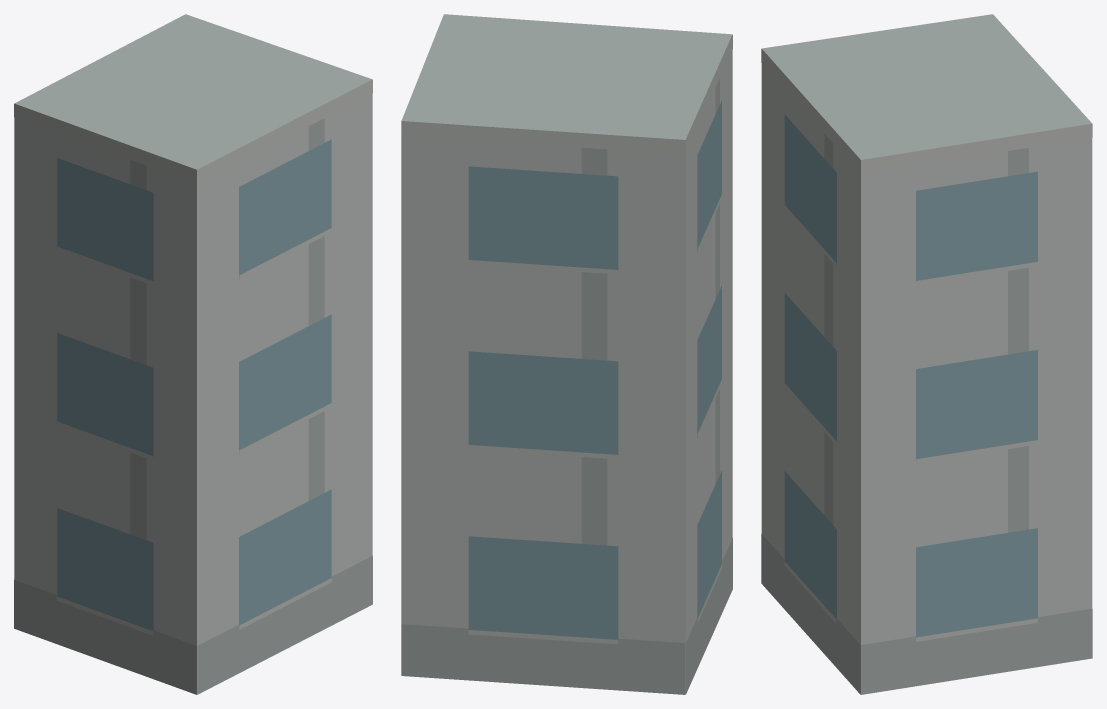
The model's file is survey-upis-32541753.glb.
The picture shows the model from 3 angles, left to right: view 1: azimuth 30°, elevation 25°; view 2: azimuth 150°, elevation 25°; view 3: azimuth 270°, elevation 25°; orthographic projection. The views are drawn at different scales.
Parts seen in each view (by area): view 1: survey-upis-32541753.tmp; view 2: survey-upis-32541753.tmp; view 3: survey-upis-32541753.tmp.
Boxes of the visible parts, x1=… form: survey-upis-32541753.tmp: x1=14, y1=14, x2=372, y2=694; survey-upis-32541753.tmp: x1=401, y1=14, x2=732, y2=694; survey-upis-32541753.tmp: x1=761, y1=14, x2=1092, y2=694.
Bounding box in the file's own units: 5.36 × 9.15 × 5.14.
